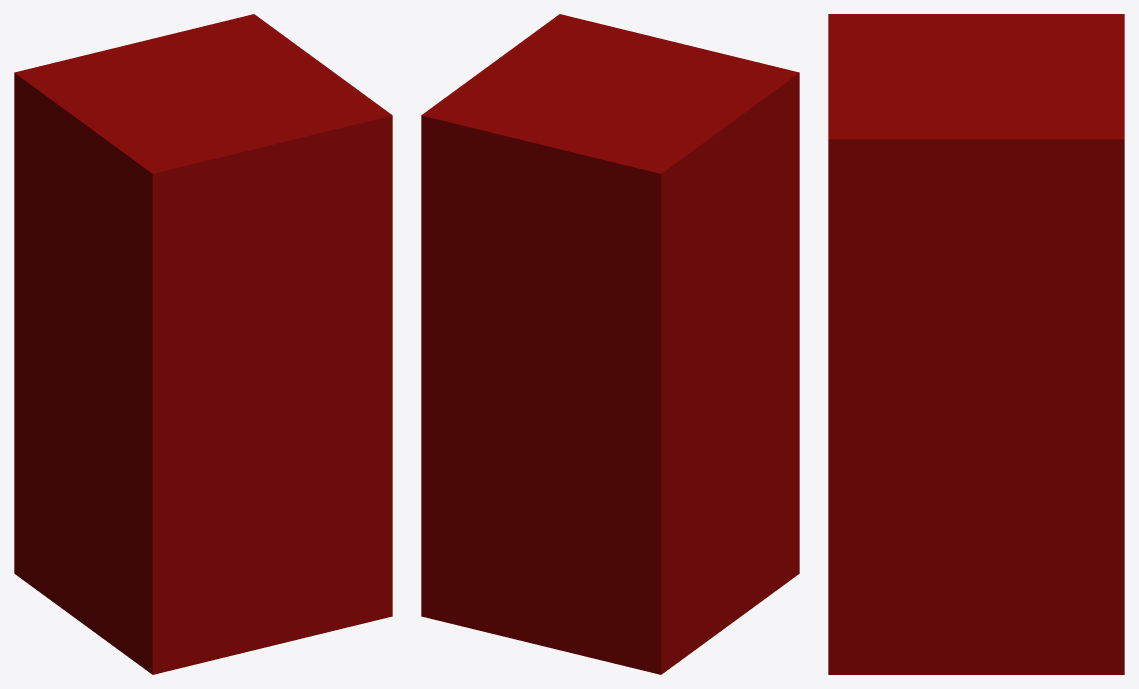
Rendered from RedThinEdge.fbx.
3 views of the same model, side by side, from view 1: azimuth 30°, elevation 25°; view 2: azimuth 150°, elevation 25°; view 3: azimuth 270°, elevation 25° (orthographic). The views are drawn at different scales.
Visible parts, largest first — view 1: 4.BODY.green.013; view 2: 4.BODY.green.013; view 3: 4.BODY.green.013.
Part boxes in pixels (x1,y1,x2,y2): 4.BODY.green.013: (14, 14, 392, 674); 4.BODY.green.013: (421, 14, 799, 674); 4.BODY.green.013: (828, 14, 1124, 674).
Bounding box in the file's own units: 100 × 201 × 101.
